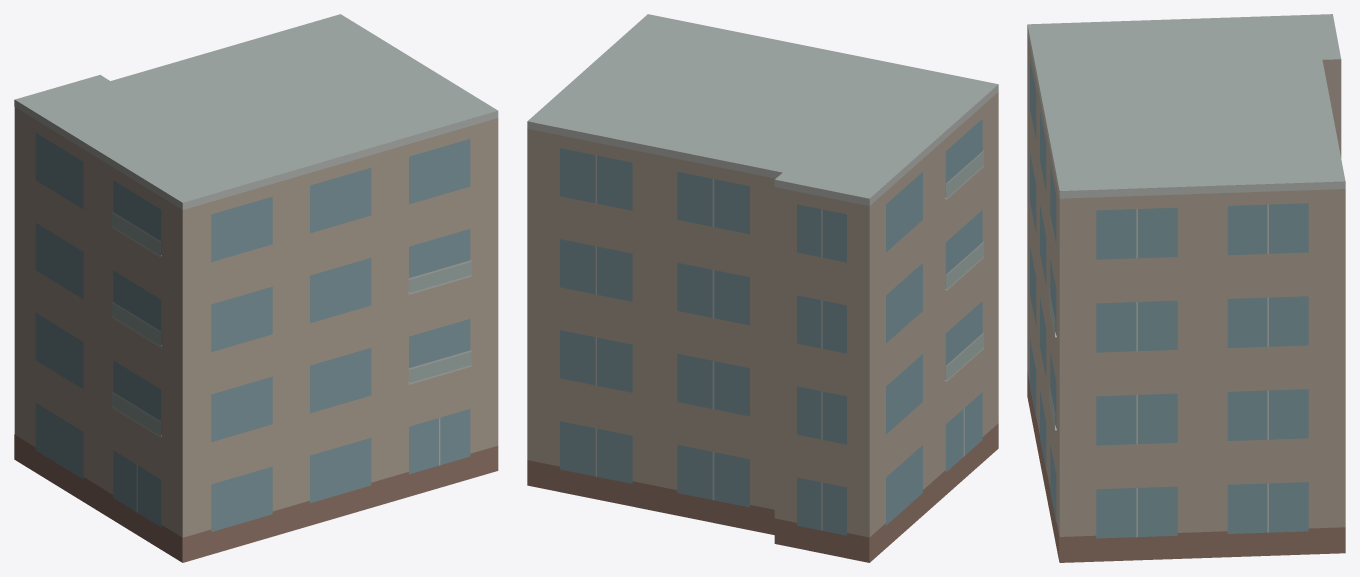
Rendered from survey-upis-32544901.glb.
The picture shows the model from 3 angles, left to right: view 1: azimuth 30°, elevation 25°; view 2: azimuth 150°, elevation 25°; view 3: azimuth 270°, elevation 25°; orthographic projection. The views are drawn at different scales.
Visible parts, largest first — view 1: survey-upis-32544901.tmp; view 2: survey-upis-32544901.tmp; view 3: survey-upis-32544901.tmp.
Boxes of the visible parts, bbox=[...] form: survey-upis-32544901.tmp: bbox=[14, 14, 498, 562]; survey-upis-32544901.tmp: bbox=[527, 14, 998, 562]; survey-upis-32544901.tmp: bbox=[1027, 14, 1345, 562].
Bounding box in the file's own units: 12.32 × 12.05 × 9.36.
